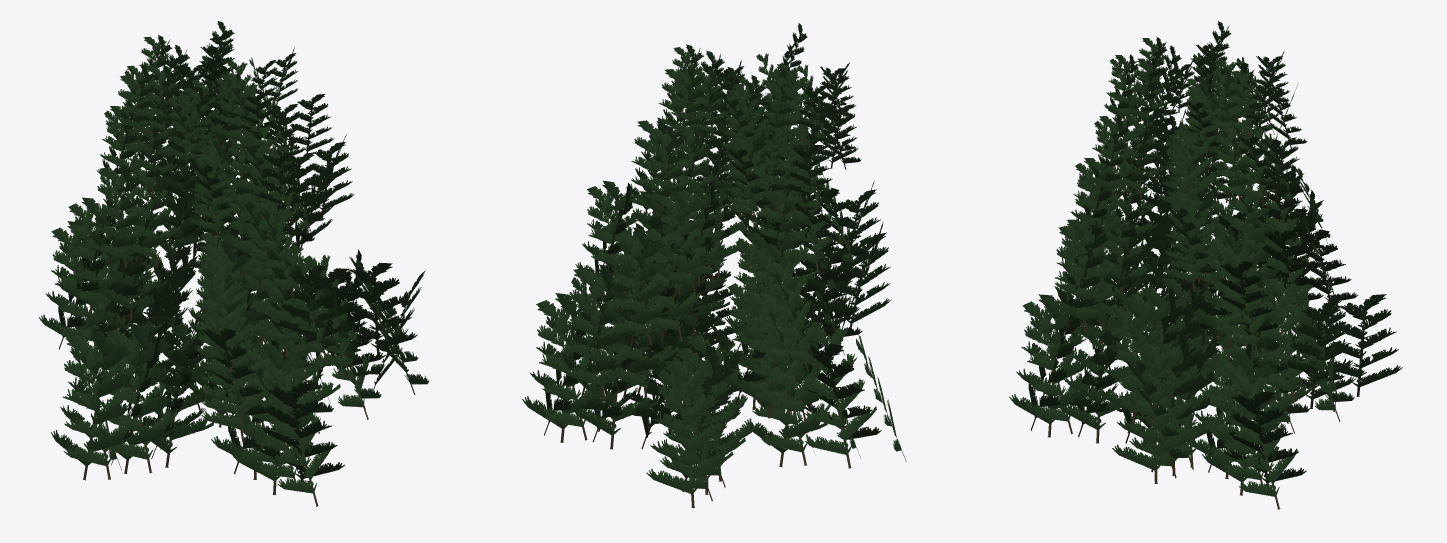
The model's file is SM_Art_Veg_Pine_1_Needles.gltf.
3 views of the same model, side by side, from view 1: azimuth 30°, elevation 25°; view 2: azimuth 150°, elevation 25°; view 3: azimuth 270°, elevation 25° (orthographic). The views are drawn at different scales.
Visible parts, largest first — view 1: SM_Art_Veg_Pine_1_Needles; view 2: SM_Art_Veg_Pine_1_Needles; view 3: SM_Art_Veg_Pine_1_Needles.
Part boxes in pixels (x1,y1,x2,y2): SM_Art_Veg_Pine_1_Needles: (38, 21, 428, 506); SM_Art_Veg_Pine_1_Needles: (522, 23, 906, 507); SM_Art_Veg_Pine_1_Needles: (1009, 21, 1402, 509).
Bounding box in the file's own units: 5.43 × 5.08 × 5.5.
1 material, 1 textured.
